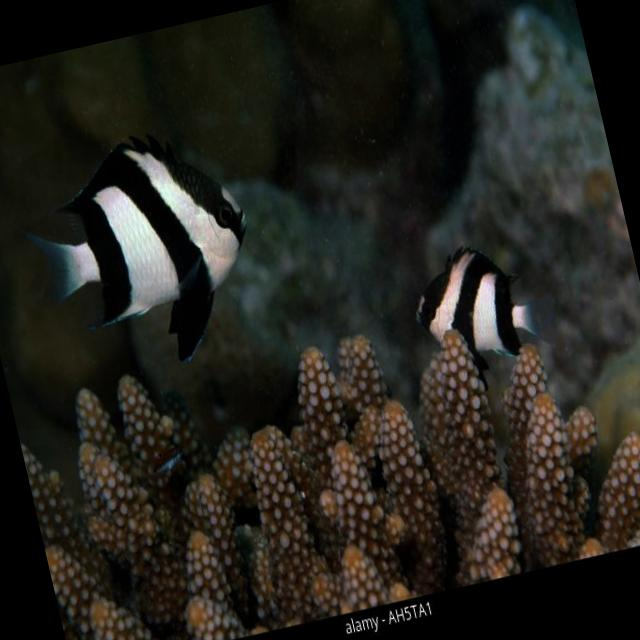Three_striped DasmselFish: (12, 108, 276, 391), (398, 226, 559, 383)
